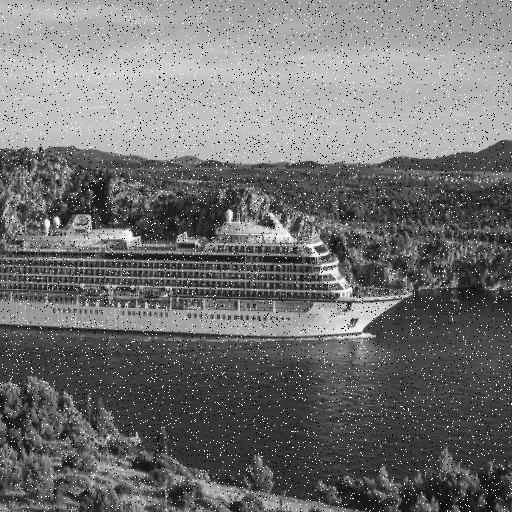cruises: (1, 207, 415, 352)
